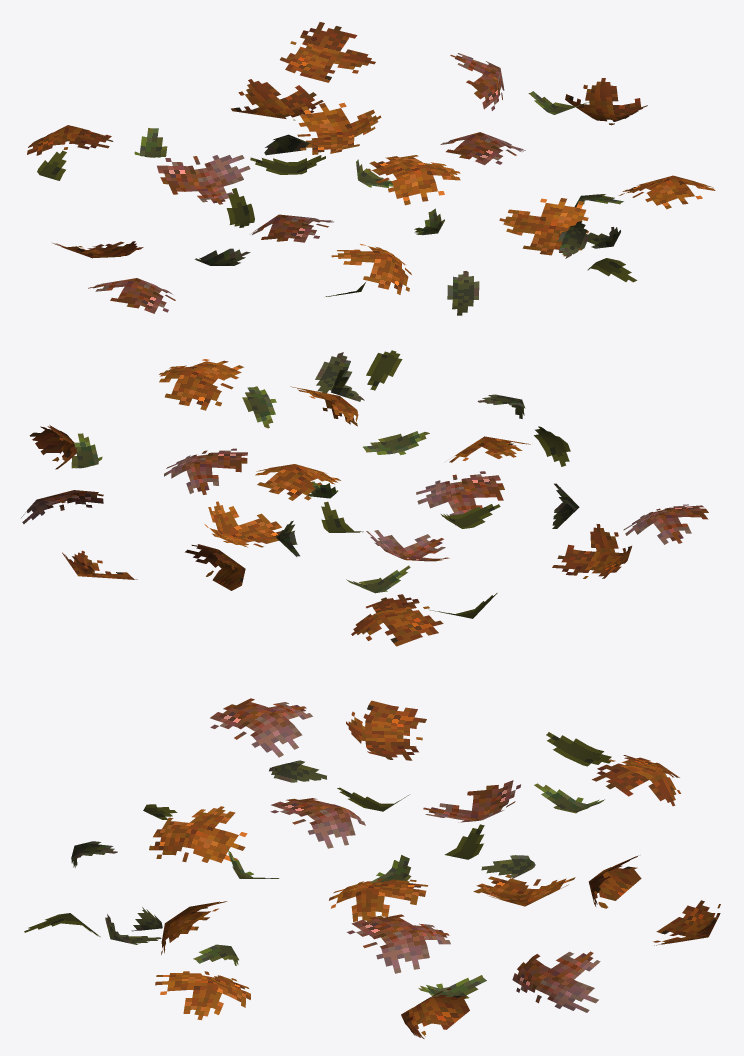
The model's file is GroundLeaves1.fbx.
The picture shows the model from 3 angles, top to bottom: view 1: azimuth 30°, elevation 25°; view 2: azimuth 150°, elevation 25°; view 3: azimuth 270°, elevation 25°; orthographic projection. The views are drawn at different scales.
Parts seen in each view (by area): view 1: GroundLeaves1; view 2: GroundLeaves1; view 3: GroundLeaves1.
Part boxes in pixels (x1,y1,x2,y2): GroundLeaves1: [27, 22, 715, 315]; GroundLeaves1: [21, 350, 708, 646]; GroundLeaves1: [24, 698, 720, 1038].
Size of the model in its own units: 1.07 by 0.9475 by 0.0877.
